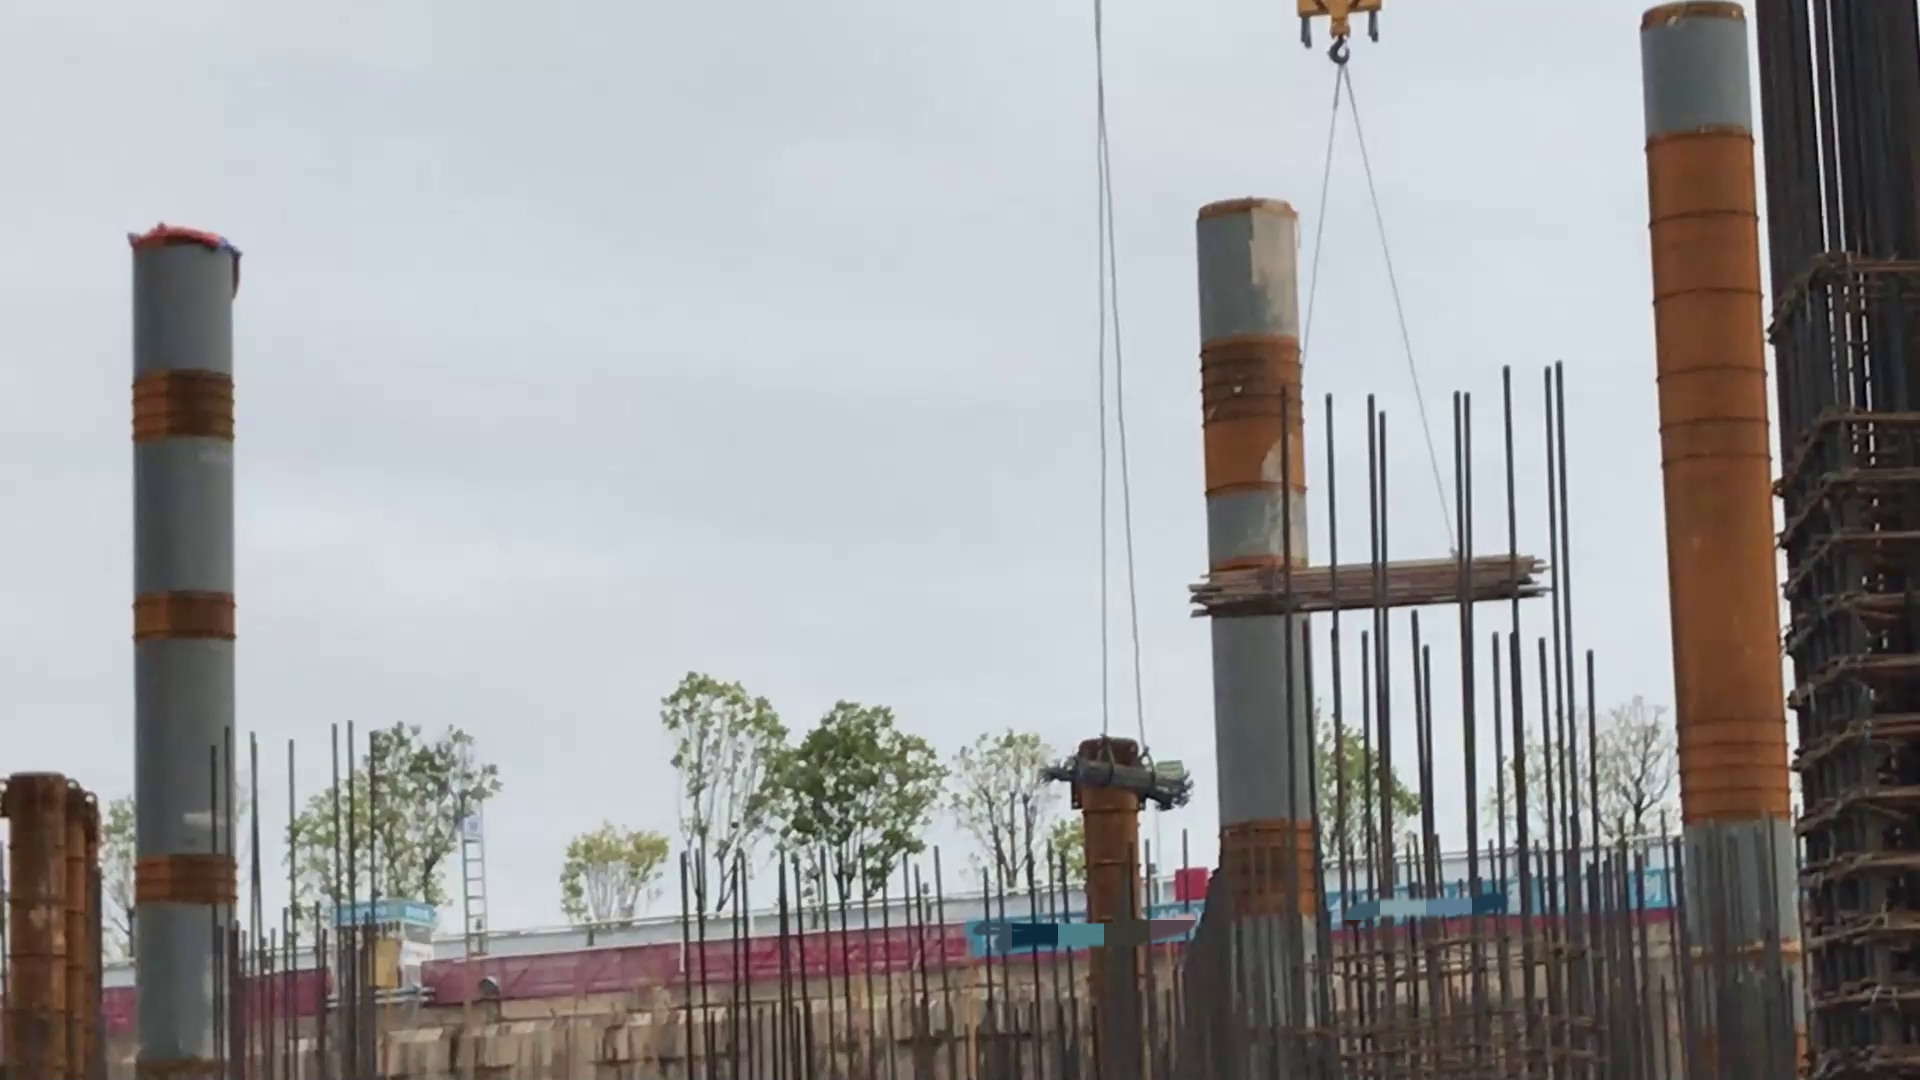hook: (1291, 1, 1395, 70)
rebar: (1038, 753, 1211, 820)
wood: (1174, 556, 1560, 618)
